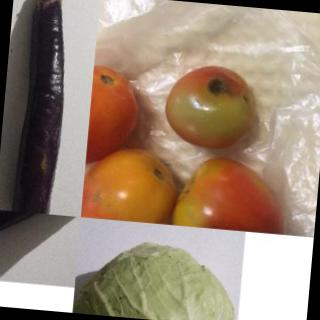Tomat: (80, 59, 302, 237)
